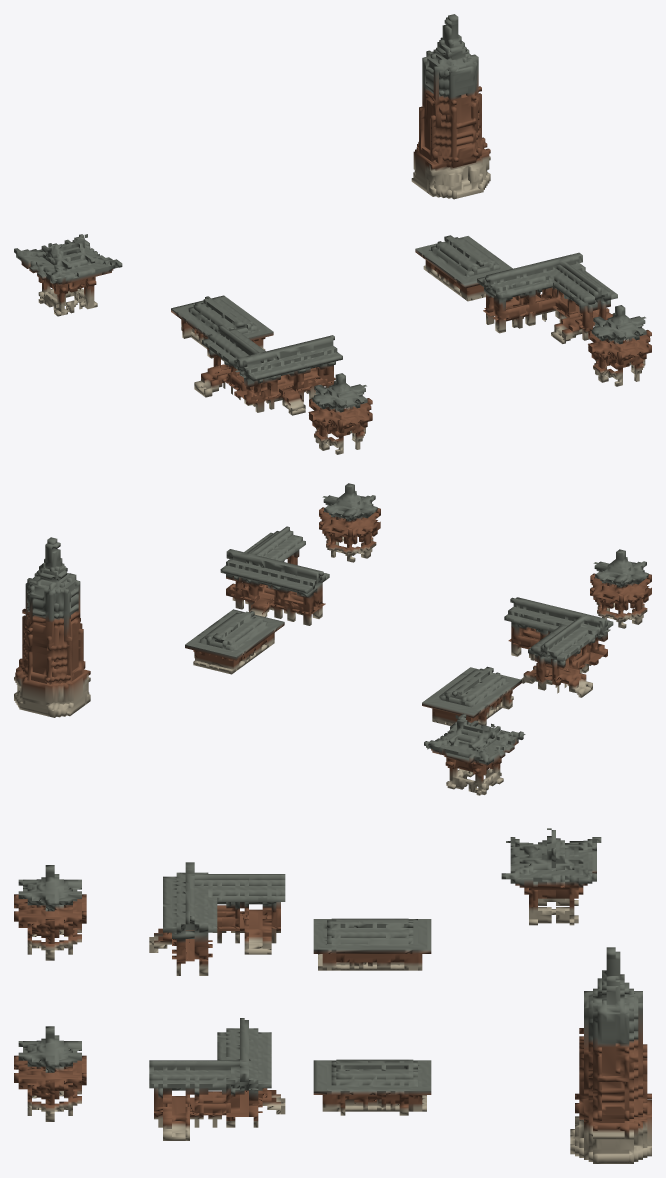
Rendered from courtyard-lite.glb.
3 renders of one model, top to bottom at view 1: azimuth 30°, elevation 25°; view 2: azimuth 150°, elevation 25°; view 3: azimuth 270°, elevation 25°, orthographic. The views are drawn at different scales.
Parts seen in each view (by area): view 1: 回廊 (×2), 浮屠塔, 亭子01 (×2), 偏殿 (×2), 钟楼; view 2: 回廊 (×2), 浮屠塔, 偏殿 (×2), 亭子01 (×2), 钟楼; view 3: 回廊 (×2), 浮屠塔, 偏殿 (×2), 亭子01 (×2), 钟楼.
Part boxes in pixels (x1,y1,x2,y2): 回廊 (×2): (194,252,617,415); 浮屠塔: (411,14,490,199); 亭子01 (×2): (308,305,651,454); 偏殿 (×2): (171,235,512,361); 钟楼: (14,234,122,316); 回廊 (×2): (220,526,613,697); 浮屠塔: (14,537,90,717); 偏殿 (×2): (185,609,521,725); 亭子01 (×2): (319,483,651,628); 钟楼: (424,713,525,795); 回廊 (×2): (149,862,285,1140); 浮屠塔: (570,947,651,1163); 偏殿 (×2): (313,918,431,1115); 亭子01 (×2): (14,865,86,1121); 钟楼: (501,828,601,925).
Size of the model in its own units: 54.22 by 18.62 by 53.46.
